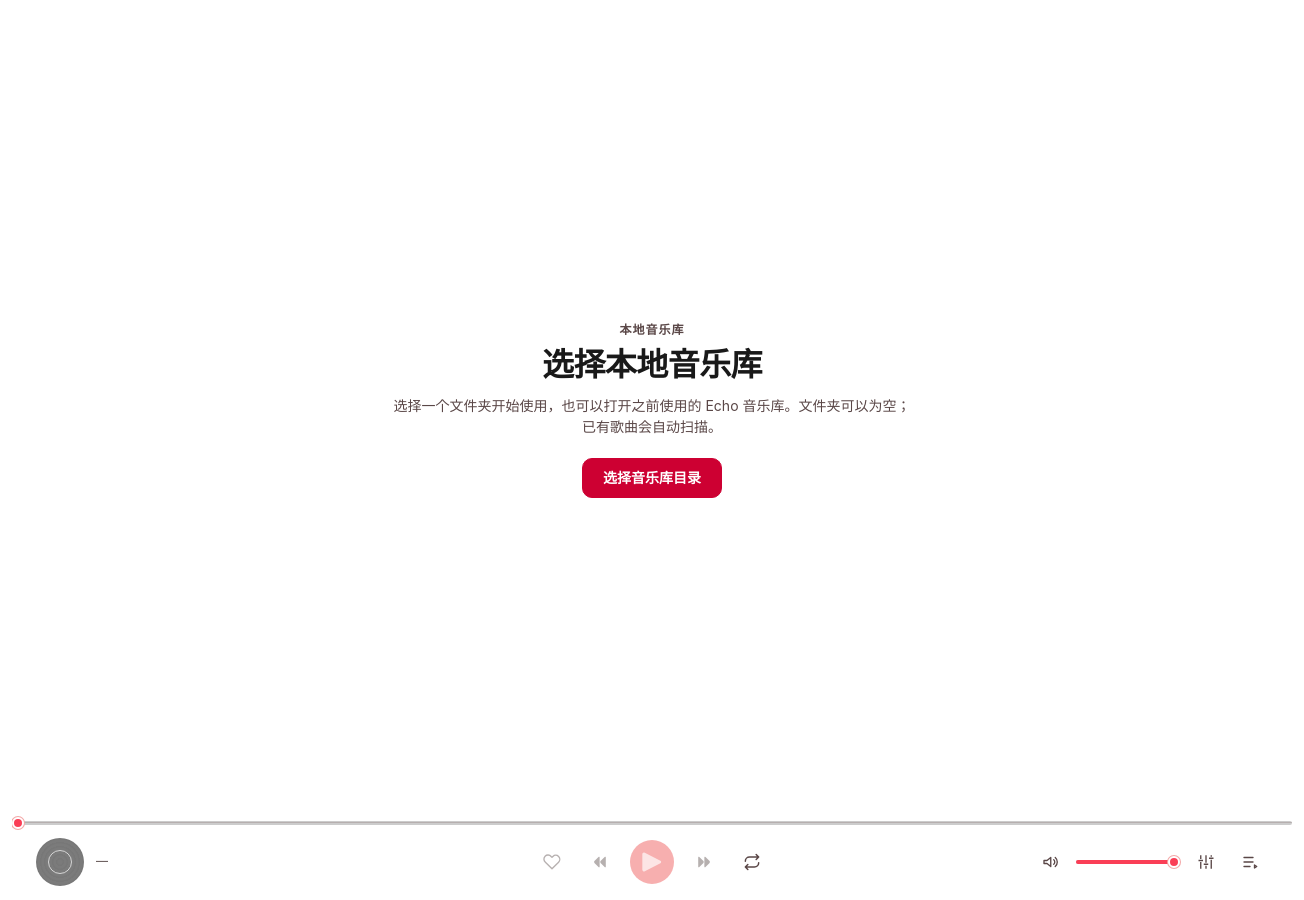
Library activation without a status event › opens a empty library after selection
The image size is (1304, 900).
Click the button "选择音乐库目录": [652, 478] box left=582, top=458, right=722, bottom=498
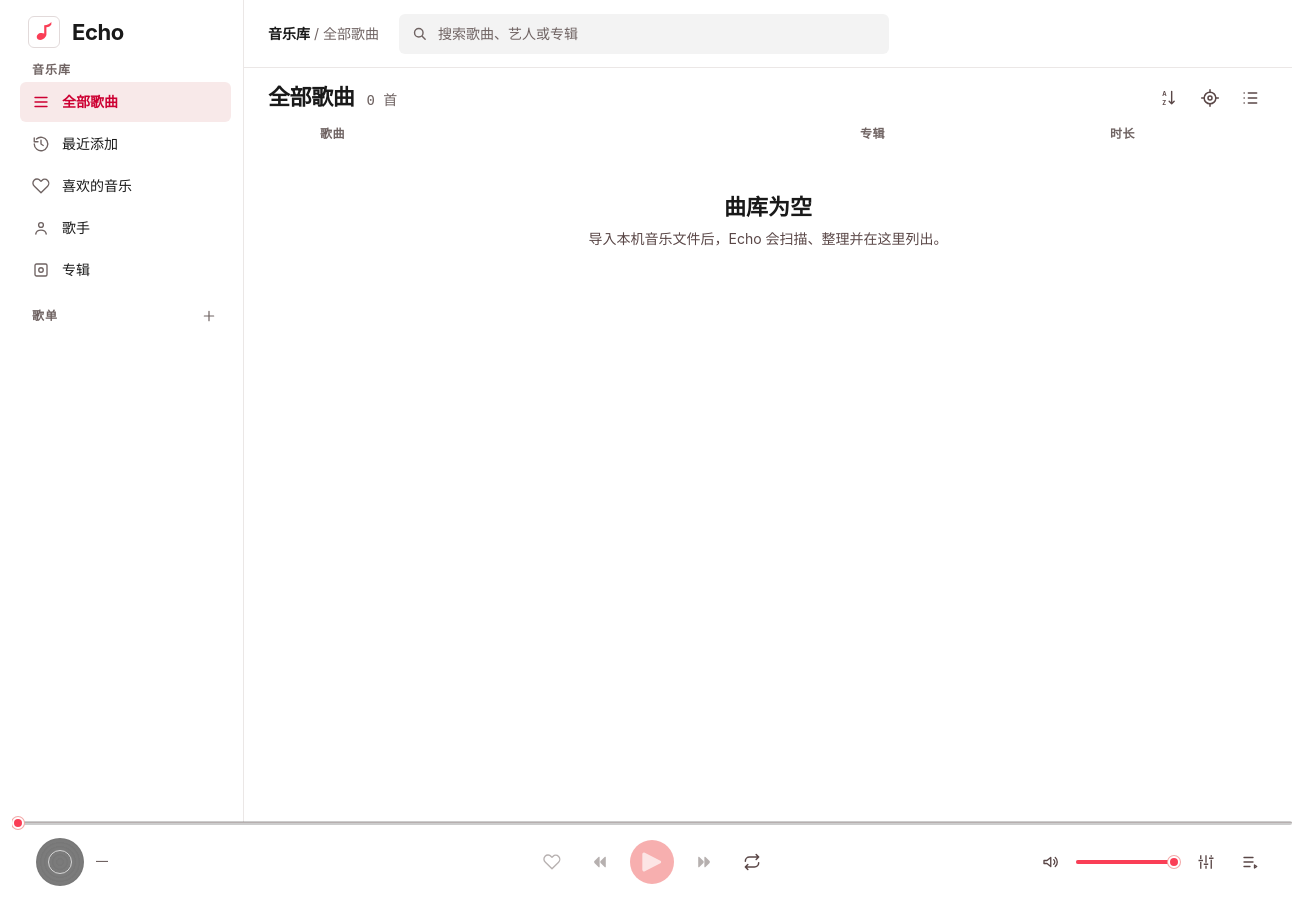
Now the element with test id "workspace" is shown
Now the element with test id "choose-root" is gone
Now the heading "曲库为空" is shown, box left=724, top=194, right=812, bottom=220
